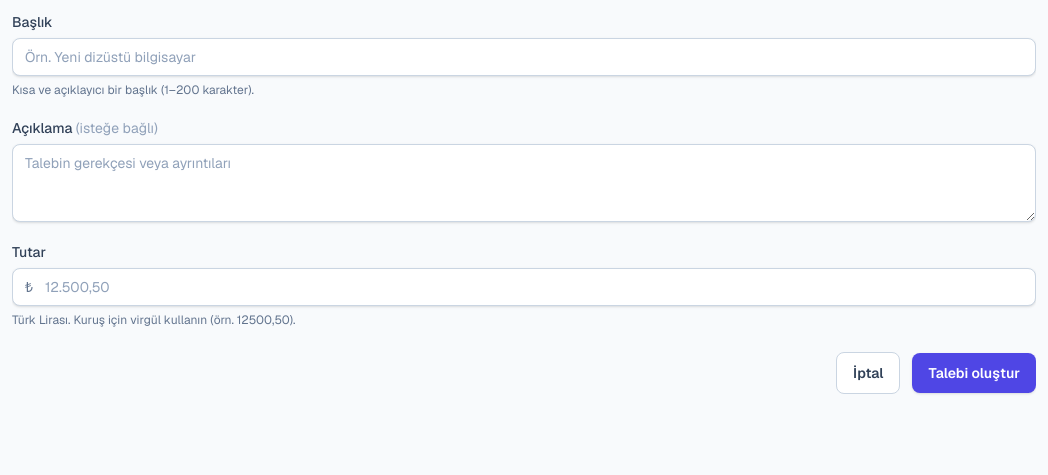
PurchaseRequestForm › genel hata mesajını erişilebilir alert'te gösterir
This screenshot has width=1048, height=475.
Type "Talep" into the field labelled "Başlık" at (524, 57), box [12,38,1036,76]
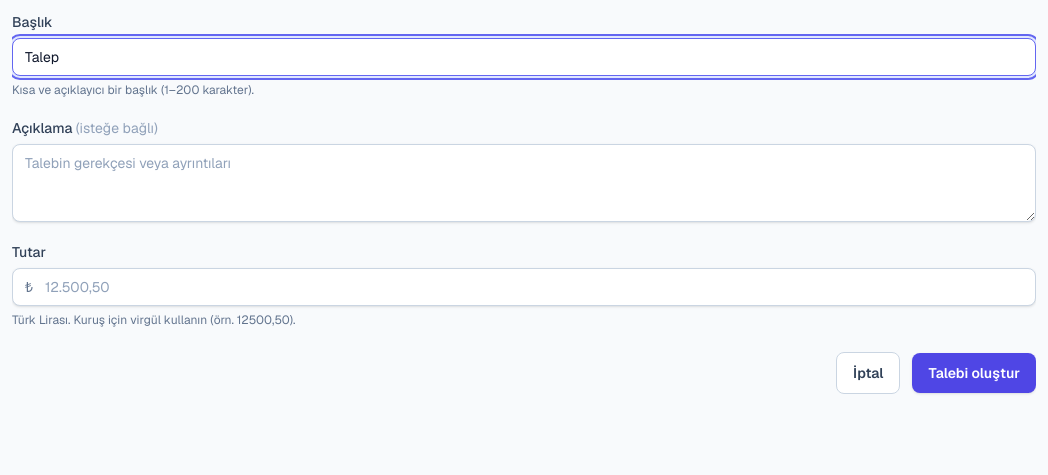
Type "12500" into the field labelled "Tutar" at (536, 287), box [37,269,1035,305]
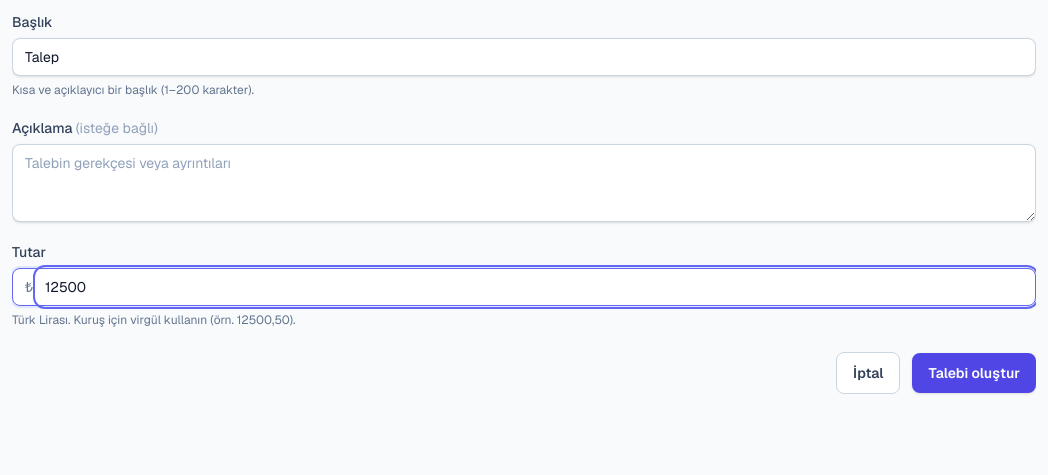
Click the button "Talebi oluştur" at (974, 373), box [912,353,1036,393]
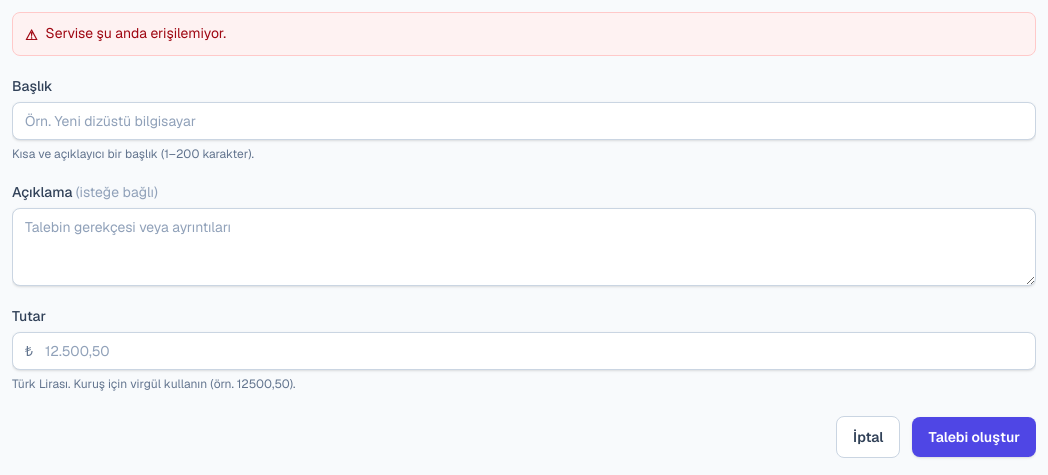
Expected: the message shows "Servise şu anda erişilemiyor.", [46,24,226,42]
